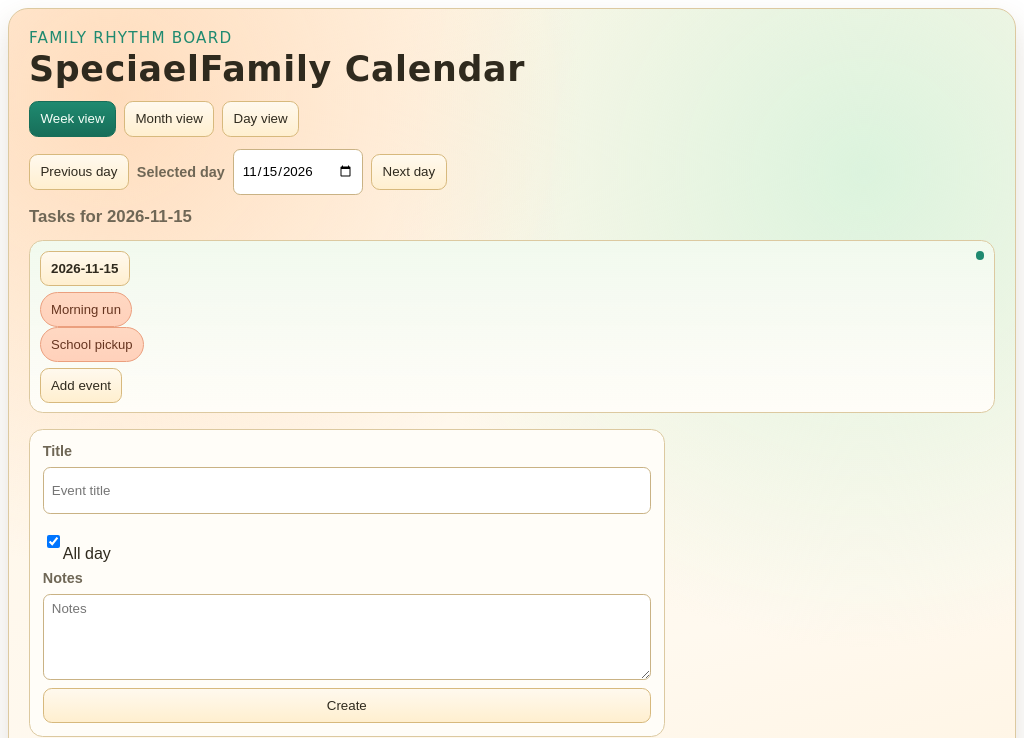
Test: calendar day view rendering › renders full selected-day event list with no hidden overflow
Check: the element named "week-view" is shown, box x1=29 y1=240 x2=995 y2=413
Click the button named "select-day-": (85, 268) x1=40 y1=251 x2=130 y2=286
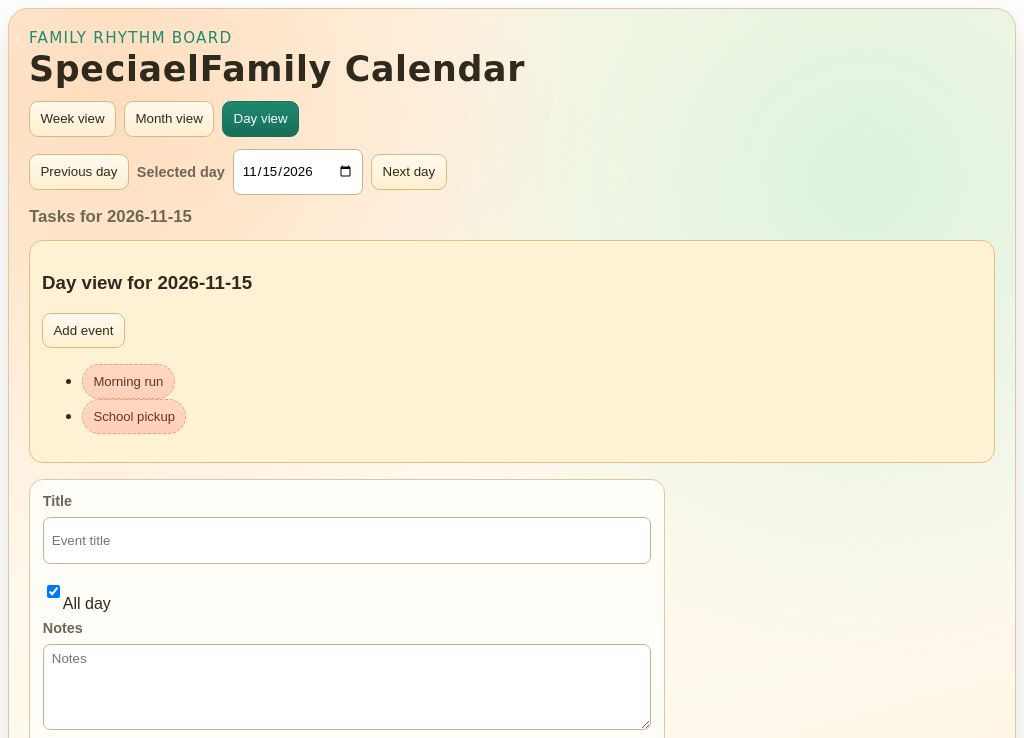
Check: the button "Morning run" is shown, box x1=82 y1=364 x2=175 y2=399
Check: the list named "day-view-events" is shown, box x1=82 y1=364 x2=186 y2=434
